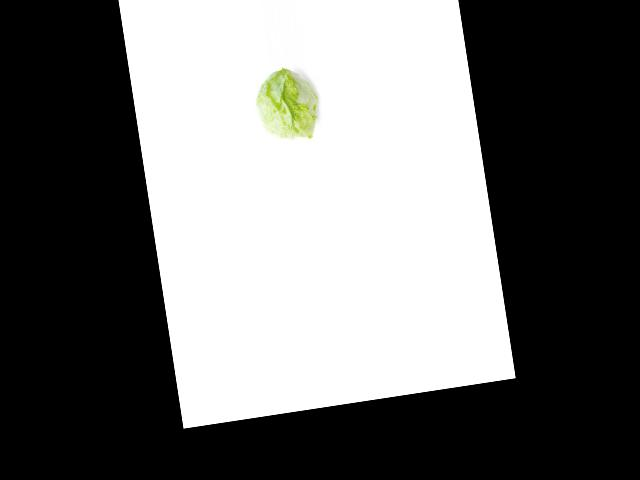lettuce: (247, 63, 326, 145)
